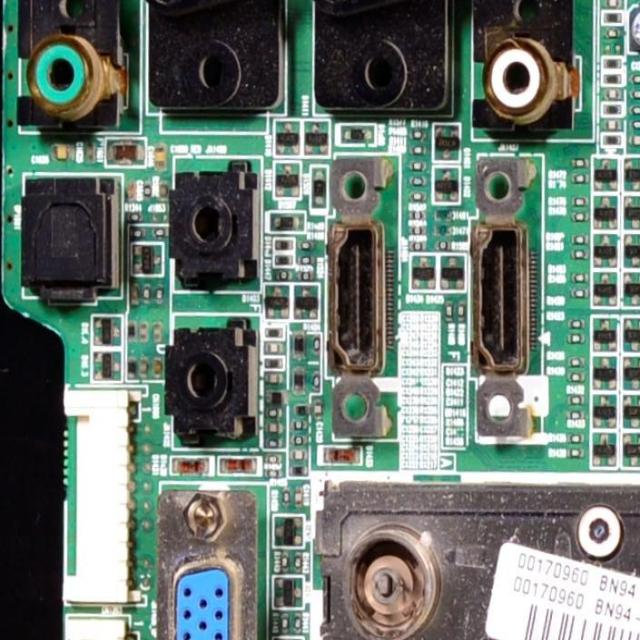capacitor: (47, 143, 74, 163), (599, 116, 630, 132), (154, 145, 167, 171), (127, 176, 137, 203), (151, 356, 161, 381), (86, 142, 95, 164), (628, 136, 640, 146)
connector: (141, 0, 297, 130), (8, 0, 152, 133), (54, 376, 128, 598), (468, 0, 594, 124), (342, 0, 458, 95), (64, 618, 138, 640)
resistor: (402, 224, 432, 239), (315, 170, 326, 210), (402, 158, 429, 174), (562, 316, 589, 332), (405, 205, 430, 222), (563, 352, 588, 368), (401, 192, 434, 204), (601, 25, 623, 42), (403, 175, 431, 188), (569, 153, 590, 170), (569, 230, 590, 247), (567, 247, 589, 263), (407, 142, 428, 158), (565, 406, 584, 423), (570, 171, 585, 192), (565, 392, 587, 406), (565, 428, 587, 442), (295, 251, 315, 266), (568, 210, 589, 224), (566, 372, 588, 385), (408, 128, 428, 142), (568, 194, 588, 208), (152, 283, 164, 305), (566, 270, 586, 283), (264, 467, 283, 480), (566, 445, 582, 460), (288, 434, 308, 446), (566, 333, 584, 346), (403, 238, 422, 250), (571, 288, 587, 302), (289, 466, 309, 477), (292, 554, 304, 572), (275, 238, 293, 250), (435, 238, 453, 250), (265, 436, 283, 448), (266, 408, 281, 422), (265, 374, 285, 384), (604, 89, 622, 100), (127, 210, 141, 224), (628, 72, 640, 88), (298, 239, 314, 251), (275, 270, 292, 281), (445, 302, 453, 324), (291, 420, 307, 431), (263, 454, 282, 463), (273, 255, 292, 264), (143, 284, 151, 305), (458, 301, 465, 325), (281, 553, 289, 573), (626, 104, 640, 115), (265, 344, 282, 353), (294, 614, 302, 633), (281, 615, 289, 632), (606, 1, 624, 8), (631, 90, 640, 102), (632, 118, 640, 128)
transistor: (88, 316, 124, 351), (432, 168, 463, 207), (592, 154, 622, 194), (433, 123, 460, 165), (589, 433, 619, 470), (588, 273, 620, 307), (592, 196, 621, 232), (271, 579, 304, 610), (592, 316, 618, 354), (272, 518, 306, 547), (275, 121, 302, 156), (590, 393, 616, 429), (593, 236, 620, 270), (90, 355, 125, 381), (304, 121, 329, 157), (440, 257, 466, 291), (412, 256, 438, 289), (292, 286, 318, 318), (592, 357, 616, 390), (277, 161, 298, 197), (266, 286, 288, 320), (619, 358, 640, 393), (620, 393, 640, 428), (622, 316, 640, 354), (624, 154, 640, 193), (622, 434, 640, 468), (623, 235, 640, 271), (622, 197, 640, 230), (623, 276, 640, 306), (274, 638, 303, 640)
